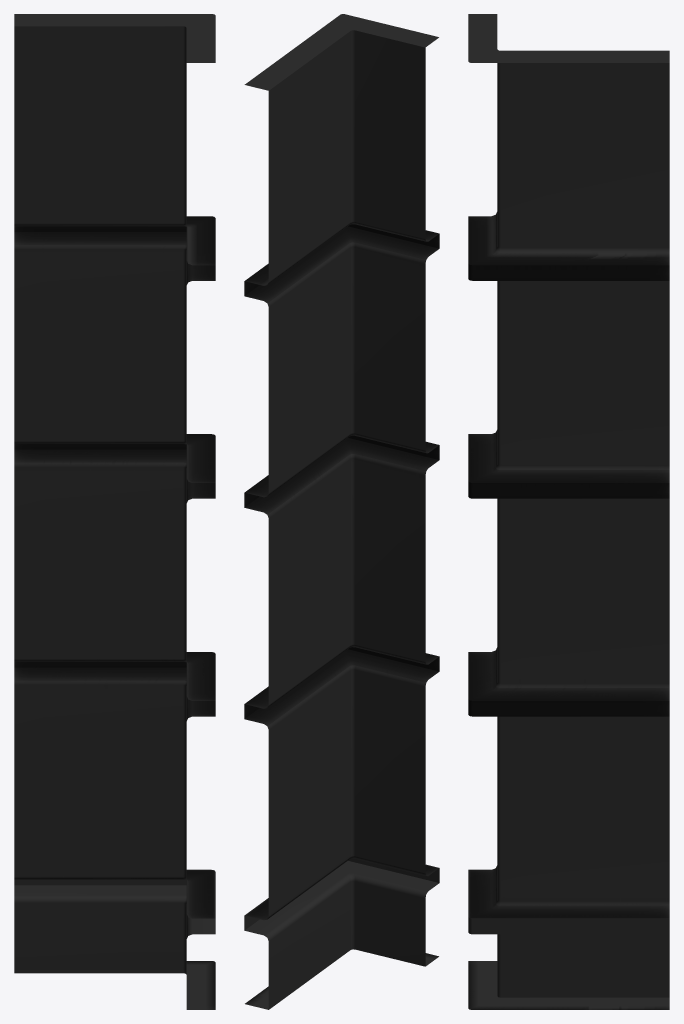
Rendered from COR_RIN_SW.fbx.
3 renders of one model, left to right at view 1: azimuth 90°, elevation 25°; view 2: azimuth 150°, elevation 25°; view 3: azimuth 270°, elevation 25°, orthographic. The views are drawn at different scales.
Visible parts, largest first — view 1: COR_RIN_SW; view 2: COR_RIN_SW; view 3: COR_RIN_SW.
Boxes of the visible parts, <box> form: COR_RIN_SW: <box>14,14,215,1009</box>; COR_RIN_SW: <box>244,14,439,1009</box>; COR_RIN_SW: <box>468,14,669,1009</box>.
Bounding box in the file's own units: 0.5 × 4.5 × 0.866.
